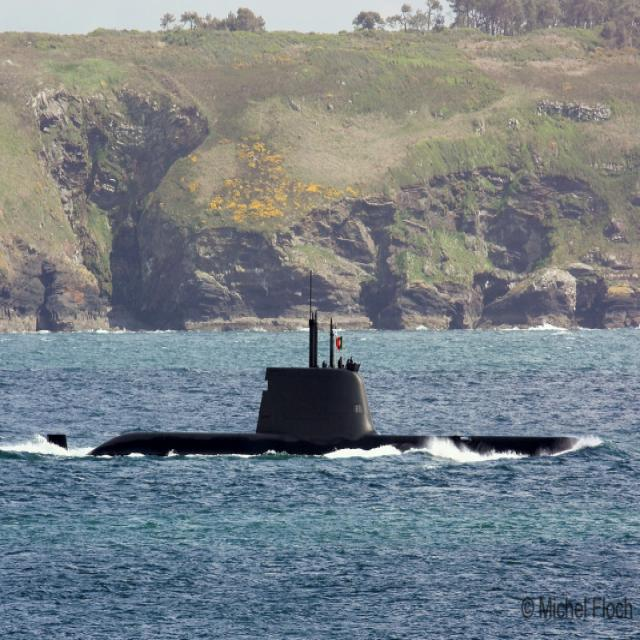submarine: (46, 372, 582, 457)
